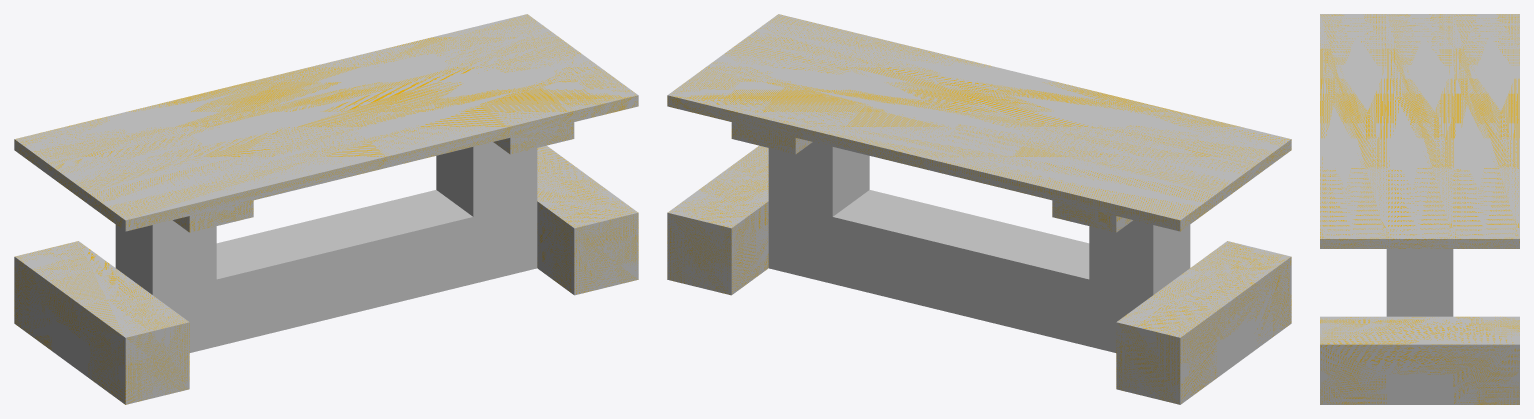
The picture shows the model from 3 angles, left to right: view 1: azimuth 30°, elevation 25°; view 2: azimuth 150°, elevation 25°; view 3: azimuth 270°, elevation 25°; orthographic projection. The views are drawn at different scales.
Visible parts, largest first — view 1: mesh1_mesh1-geometry; view 2: mesh1_mesh1-geometry; view 3: mesh1_mesh1-geometry.
Boxes of the visible parts, x1,y1,x2,y2 form: mesh1_mesh1-geometry: [14, 14, 638, 404]; mesh1_mesh1-geometry: [667, 14, 1291, 404]; mesh1_mesh1-geometry: [1320, 14, 1519, 404].
Bounding box in the file's own units: 0.8913 × 0.3064 × 0.3342.
